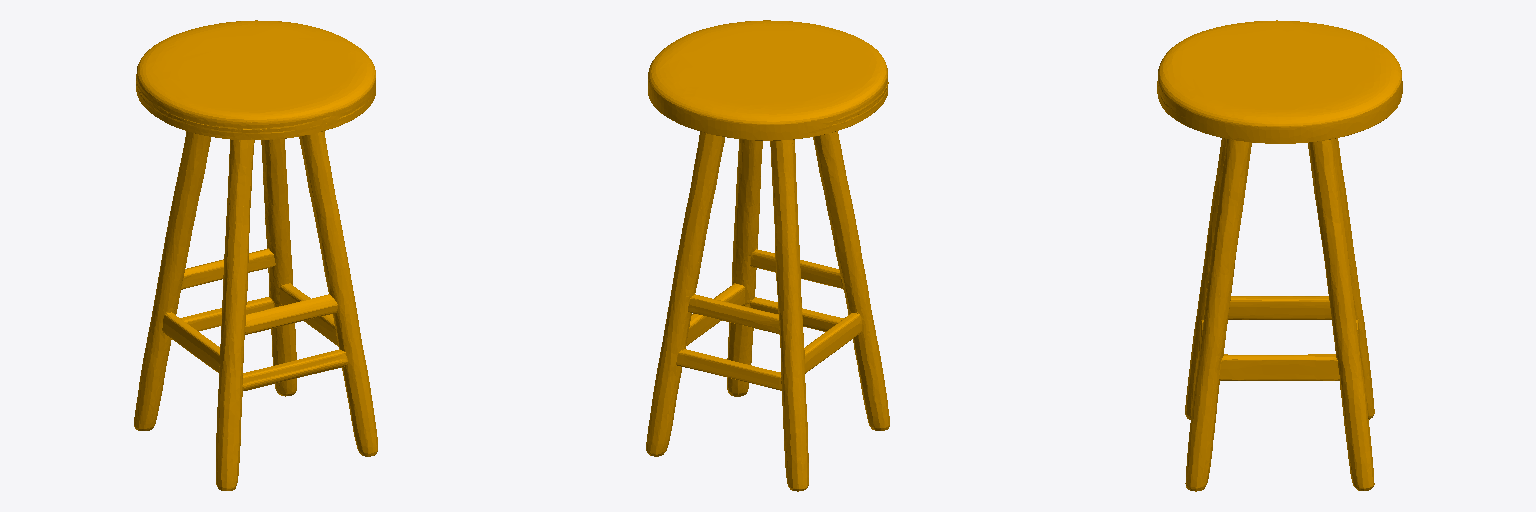
robot.urdf — bar_stool_30:
<?xml version="1.0" ?>
<robot name="bar_stool_30">
   <link name="bar_stool_30">
      <visual>
         <origin xyz="0 0 0" rpy="1.5708 0.0 0.0"/>
         <geometry>
            <mesh filename="mesh/bar_stool_30.obj" scale="1.0 1.0 1.0"/>
         </geometry>
      </visual>
      <collision>
         <origin xyz="0 0 0" rpy="1.5708 0.0 0.0"/>
         <geometry>
            <mesh filename="mesh/bar_stool_30_collision.obj" scale="1.0 1.0 1.0"/>
         </geometry>
         <gazebo>
            <mu1>0.60</mu1>
            <mu2>0.50</mu2>
         </gazebo>
      </collision>
      <inertial>
         <mass value="5.0000"/>
         <origin xyz="0 0 0"/>
         <inertia ixx="1.0" ixy="0.0" ixz="0.0" iyy="1.0" iyz="0.0" izz="1.0"/>
      </inertial>
      <extra_info>
         <scale>0.775000</scale>
         <version>v0.1.5</version>
         <category>bar_stool</category>
         <description>wooden bar stool with round seat and four legs</description>
         <min_height>0.7</min_height>
         <max_height>0.85</max_height>
         <real_height>0.775</real_height>
         <min_mass>4.0</min_mass>
         <max_mass>6.0</max_mass>
         <generate_time>20251021122411</generate_time>
         <gs_model>mesh/bar_stool_30_gs.ply</gs_model>
      </extra_info>
   </link>
   <custom_data>
      <quality>
         <MeshGeoChecker>YES</MeshGeoChecker>
         <ImageSegChecker>YES</ImageSegChecker>
         <ImageAestheticChecker>4.69173276424408</ImageAestheticChecker>
         <overall>YES</overall>
      </quality>
   </custom_data>
</robot>

--- What the picture shows (computed from the rendered views, not written in the file) ---
3 views of the same robot in one strip: view 1: azimuth 30°, elevation 25°; view 2: azimuth 150°, elevation 25°; view 3: azimuth 270°, elevation 25° (orthographic).
Model bar_stool_30 with 1 links and 0 joints (none), rooted at bar_stool_30, posed every joint at zero.
Links seen in each view (by area): view 1: bar_stool_30; view 2: bar_stool_30; view 3: bar_stool_30.
Boxes of the visible links, x1,y1,x2,y2 form: bar_stool_30: (134, 20, 377, 490); bar_stool_30: (646, 20, 889, 491); bar_stool_30: (1157, 20, 1402, 491).
Size in the robot's own frame: 0.448 by 0.4486 by 0.775 metres.
Meshes: 1 distinct files referenced, 1 mesh visuals loaded (1 OBJ).
